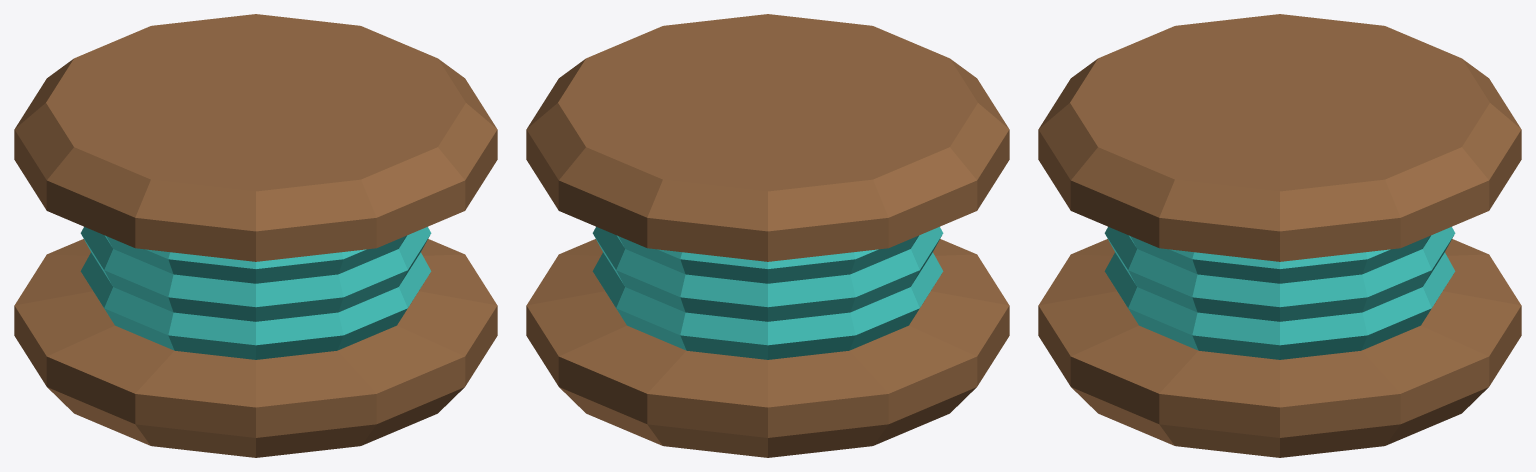
Rendered from LineSpool.fbx.
3 views of the same model, side by side, from view 1: azimuth 30°, elevation 25°; view 2: azimuth 150°, elevation 25°; view 3: azimuth 270°, elevation 25° (orthographic).
Visible parts, largest first — view 1: LineSpool; view 2: LineSpool; view 3: LineSpool.
Boxes of the visible parts, x1=… form: LineSpool: x1=14, y1=14, x2=497, y2=457; LineSpool: x1=526, y1=14, x2=1009, y2=457; LineSpool: x1=1038, y1=14, x2=1521, y2=457.
Bounding box in the file's own units: 46 × 28 × 46.
